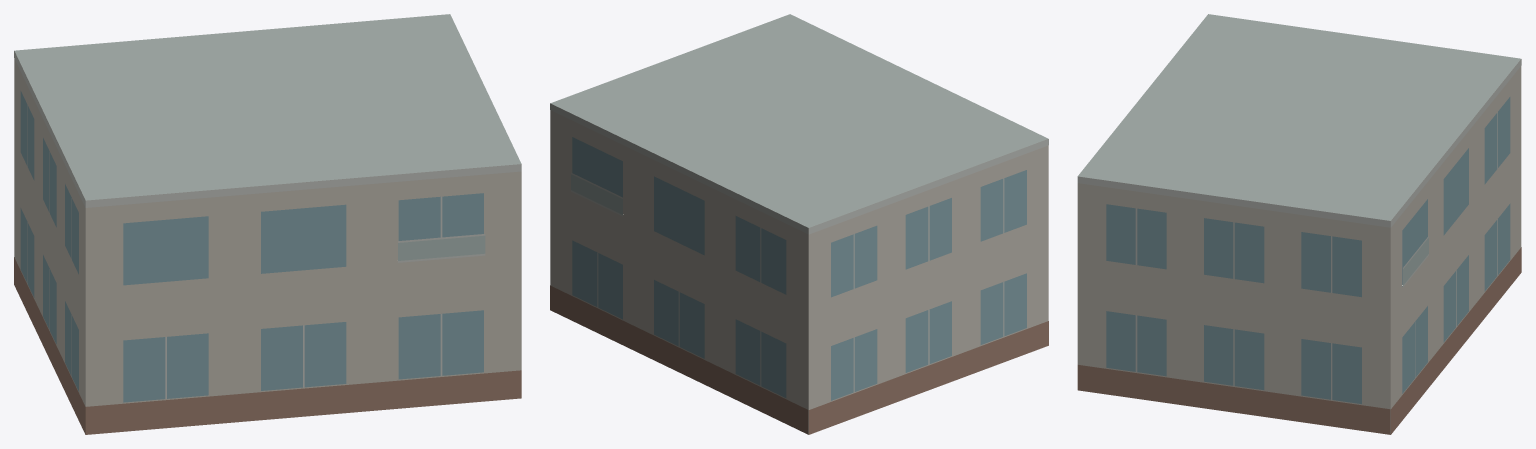
The model's file is survey-upis-32984183.glb.
3 views of the same model, side by side, from view 1: azimuth 30°, elevation 25°; view 2: azimuth 150°, elevation 25°; view 3: azimuth 270°, elevation 25° (orthographic). The views are drawn at different scales.
Visible parts, largest first — view 1: survey-upis-32984183.tmp; view 2: survey-upis-32984183.tmp; view 3: survey-upis-32984183.tmp.
Part boxes in pixels (x1=…): survey-upis-32984183.tmp: x1=14, y1=14, x2=521, y2=434; survey-upis-32984183.tmp: x1=550, y1=14, x2=1048, y2=434; survey-upis-32984183.tmp: x1=1077, y1=14, x2=1521, y2=434.
Size of the model in its own units: 15.99 by 7.7 by 14.49.
